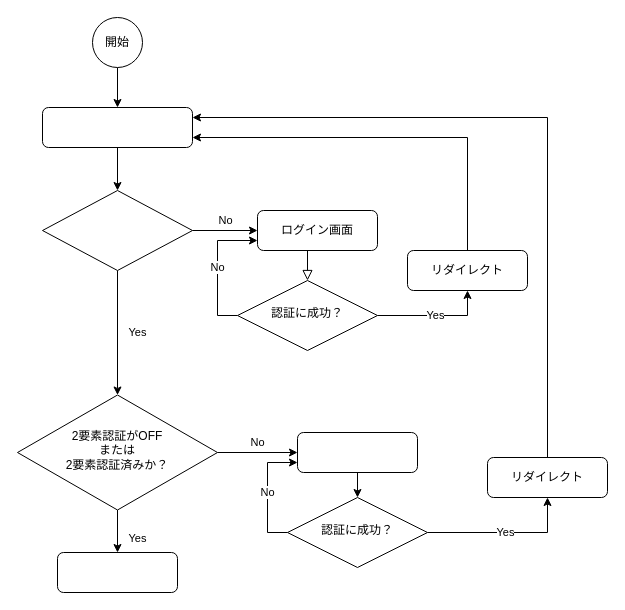
Image size: 625x610. Some labels were removed from this diagram. Here are the shapes that lost their labels. From the top down, the centre of each, then its label:
At point (117, 127): "http://localhost:8080 を開く".
At point (117, 230): "パスワード 認証済みか？".
At point (357, 452): "2要素認証画面".
At point (117, 572): "ホーム画面".
